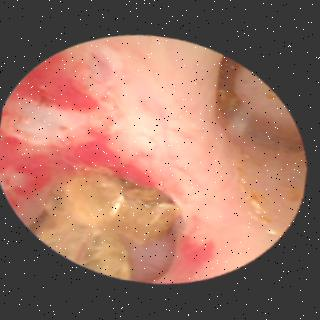stone: (36, 170, 180, 275)
tissue: (1, 37, 297, 277)
